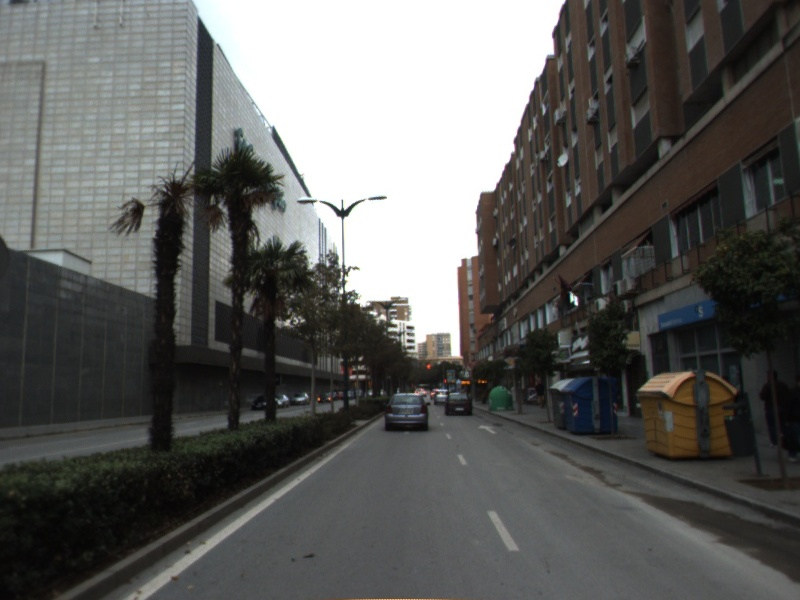STRAIGHT: (476, 422, 499, 436)
